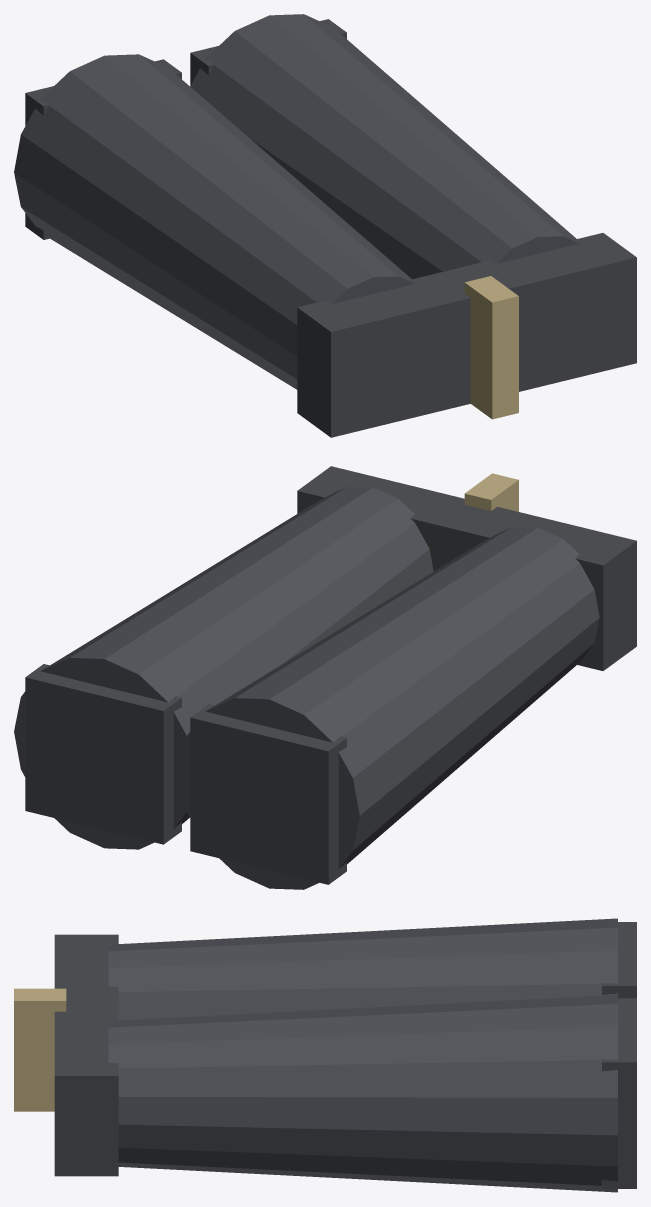
The model's file is fnfy-pant.glb.
3 renders of one model, top to bottom at view 1: azimuth 30°, elevation 25°; view 2: azimuth 150°, elevation 25°; view 3: azimuth 270°, elevation 25°, orthographic. The views are drawn at different scales.
Parts seen in each view (by area): view 1: left_trouser_leg, right_trouser_leg, waistband, belt_loop, left_hem, right_hem; view 2: left_trouser_leg, right_trouser_leg, left_hem, right_hem, waistband, belt_loop; view 3: right_trouser_leg, left_trouser_leg, waistband, belt_loop, right_hem, left_hem.
Part boxes in pixels (x1=…): left_trouser_leg: x1=14, y1=54, x2=414, y2=389; right_trouser_leg: x1=190, y1=14, x2=579, y2=279; waistband: x1=297, y1=233, x2=636, y2=437; belt_loop: x1=464, y1=276, x2=518, y2=419; left_hem: x1=25, y1=59, x2=181, y2=239; right_hem: x1=190, y1=19, x2=346, y2=85; left_trouser_leg: x1=179, y1=526, x2=599, y2=889; right_trouser_leg: x1=14, y1=486, x2=433, y2=849; left_hem: x1=190, y1=704, x2=346, y2=884; right_hem: x1=25, y1=664, x2=181, y2=844; waistband: x1=297, y1=466, x2=636, y2=670; belt_loop: x1=464, y1=473, x2=518, y2=511; right_trouser_leg: x1=108, y1=994, x2=617, y2=1192; left_trouser_leg: x1=108, y1=918, x2=617, y2=1020; waistband: x1=54, y1=934, x2=118, y2=1176; belt_loop: x1=14, y1=988, x2=66, y2=1111; right_hem: x1=602, y1=998, x2=636, y2=1188; left_hem: x1=602, y1=922, x2=636, y2=998.
Bounding box in the file's own units: 1.3 × 0.68 × 2.14.
